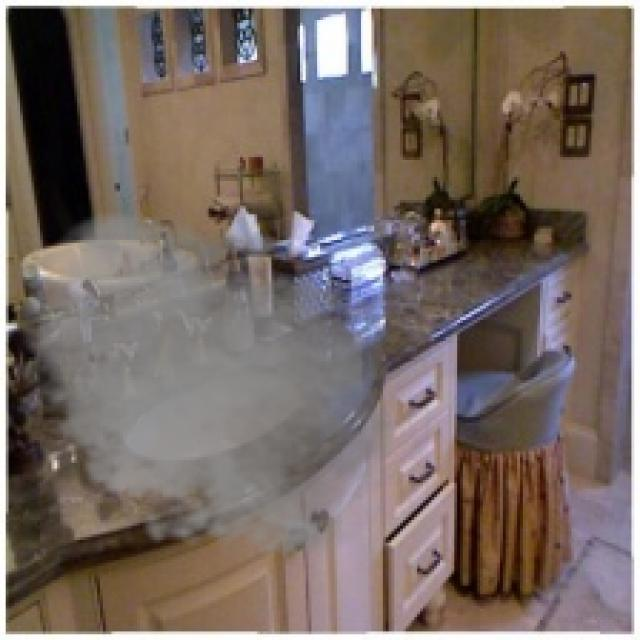smoke: (8, 206, 423, 568)
